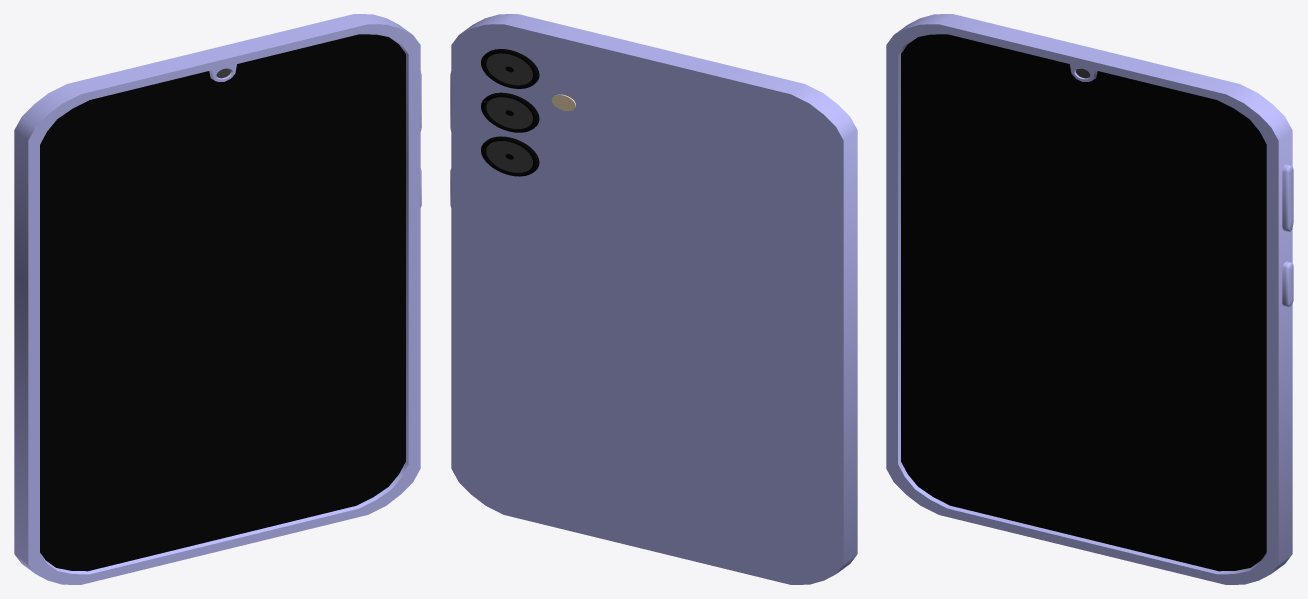
File: Reject16.fbx
The picture shows the model from 3 angles, left to right: view 1: azimuth 30°, elevation 25°; view 2: azimuth 150°, elevation 25°; view 3: azimuth 330°, elevation 25°; orthographic projection.
Parts seen in each view (by area): view 1: reject.015; view 2: reject.015; view 3: reject.015.
Boxes of the visible parts, x1,y1,x2,y2 form: reject.015: (14, 14, 421, 584); reject.015: (450, 14, 857, 584); reject.015: (886, 14, 1293, 584).
Size of the model in its own units: 1.85 by 2.18 by 0.1292.
